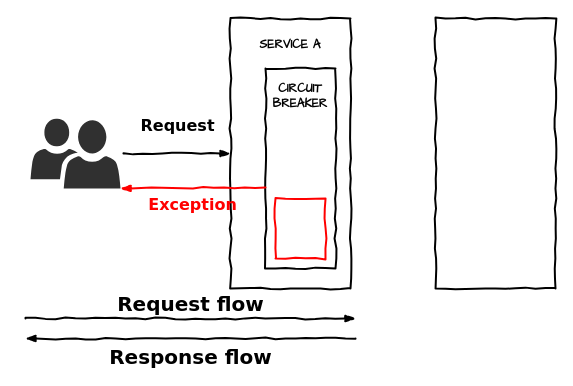
This 573x386 diagram has some shape labels left out. Here are the shapes that lost their labels. From the top down, the centre of each, then its label:
At (495,153): "SERVICE B".
At (300,228): "OPEN".
